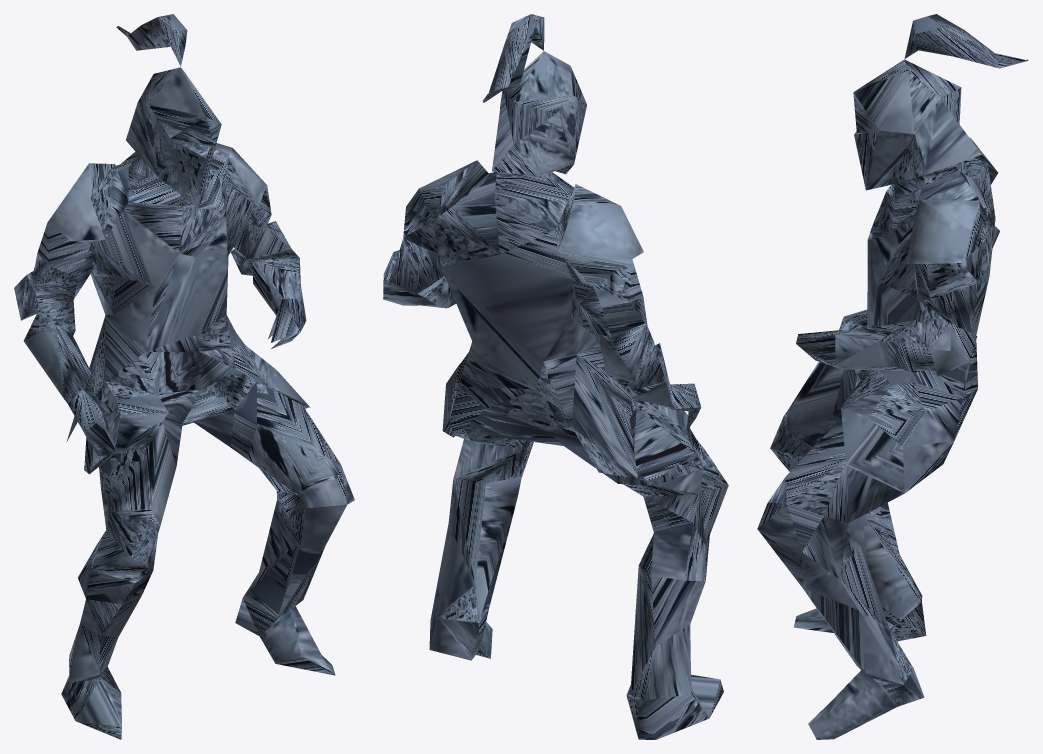
The model's file is ae_knight_rider_iron_lod0.glb.
3 renders of one model, left to right at view 1: azimuth 30°, elevation 25°; view 2: azimuth 150°, elevation 25°; view 3: azimuth 270°, elevation 25°, orthographic. The views are drawn at different scales.
Visible parts, largest first — view 1: output_unwrapped; view 2: output_unwrapped; view 3: output_unwrapped.
Boxes of the visible parts, box(x1,y1,x2,y2) form: output_unwrapped: box(14, 14, 354, 739); output_unwrapped: box(383, 14, 728, 739); output_unwrapped: box(757, 14, 1028, 739).
Size of the model in its own units: 0.7999 by 1.9 by 0.6969.
Materials: 1 (1 with a texture image).
